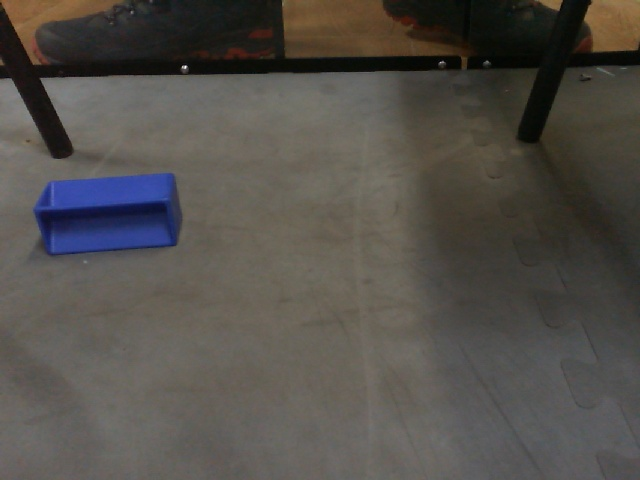BlueSample: (30, 173, 186, 256)
